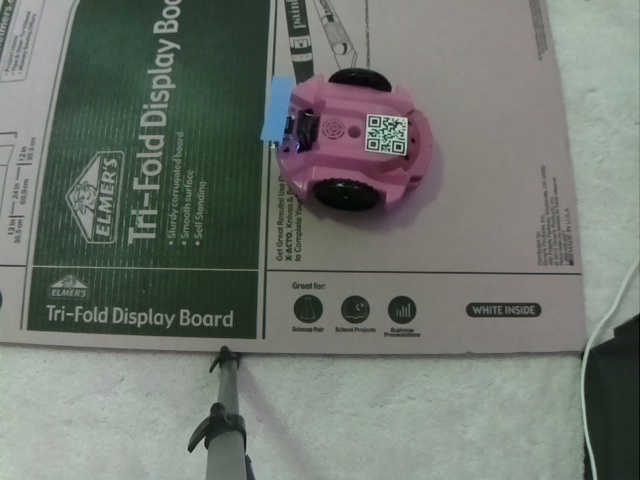board: (257, 75, 309, 152)
chassis: (258, 66, 435, 213)
